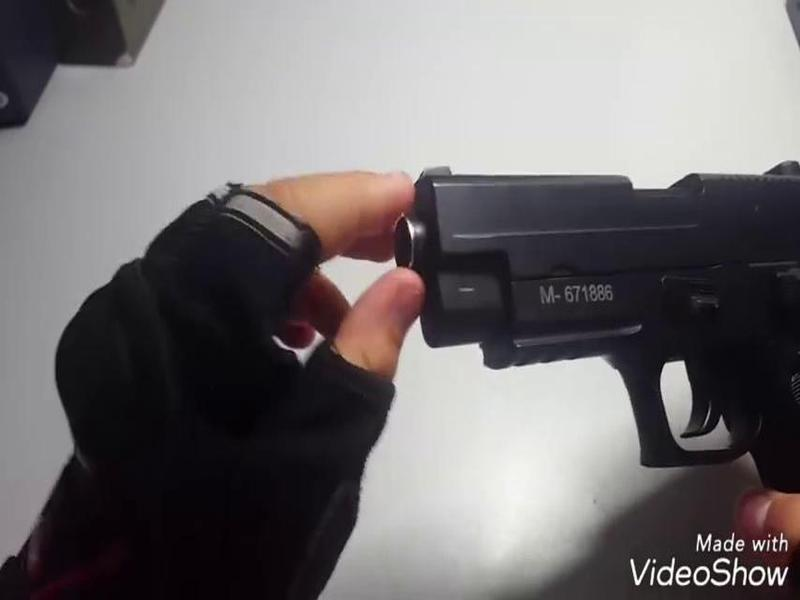Pistola: (387, 155, 800, 506)
